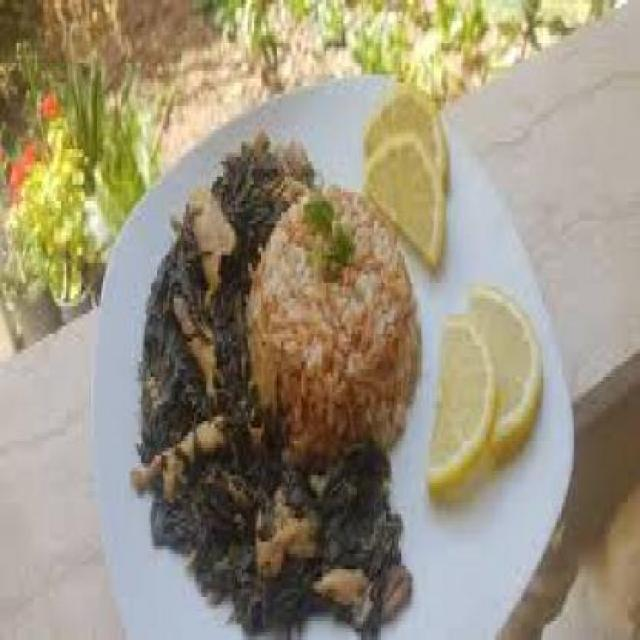fried rice: (249, 176, 423, 452)
molokhia: (132, 130, 411, 632)
